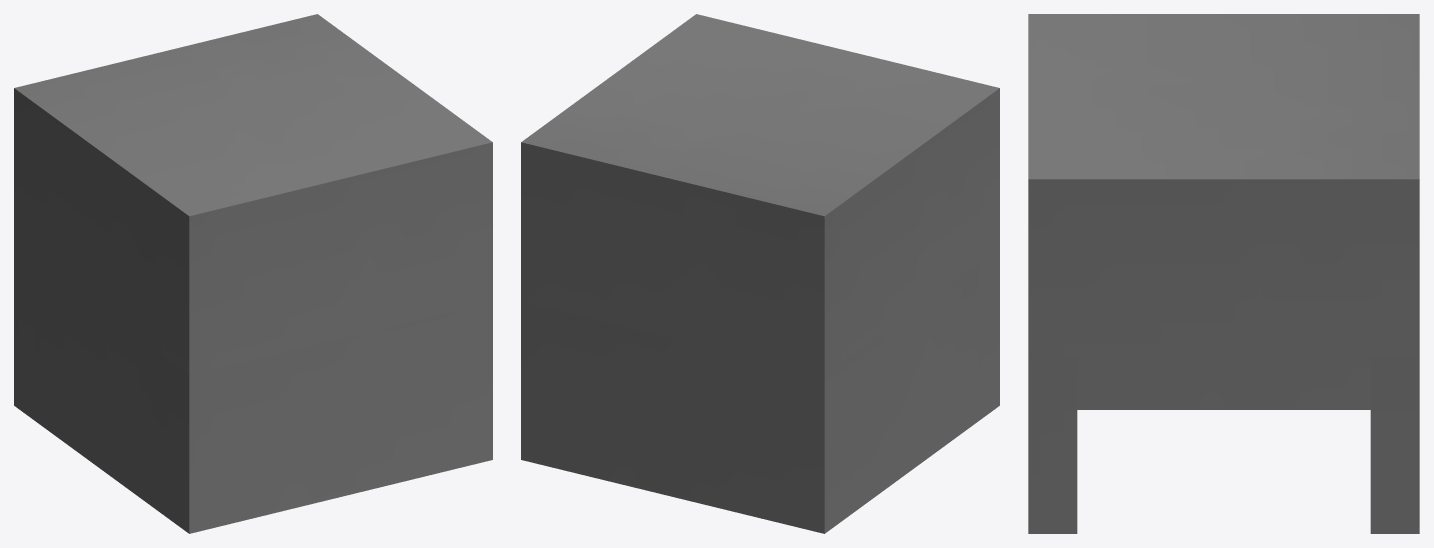
The model's file is dc_metro_roof_k2.obj.
3 renders of one model, left to right at view 1: azimuth 30°, elevation 25°; view 2: azimuth 150°, elevation 25°; view 3: azimuth 270°, elevation 25°, orthographic. The views are drawn at different scales.
Visible parts, largest first — view 1: cube; view 2: cube; view 3: cube.
Part boxes in pixels (<box>): cube: <box>14,14,492,533</box>; cube: <box>521,14,999,533</box>; cube: <box>1028,14,1419,533</box>.
Bounding box in the file's own units: 1 × 1 × 1.
1 material, 1 textured.
